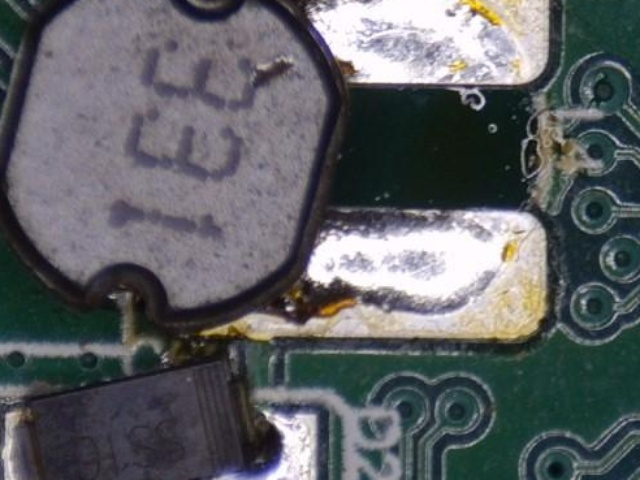pcb_defect: (0, 0, 555, 342)
